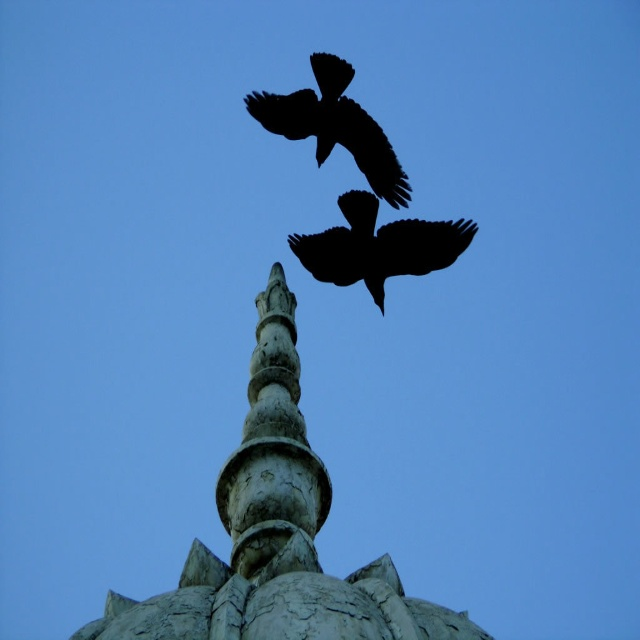Eagle: (239, 48, 416, 216), (285, 183, 482, 322)
